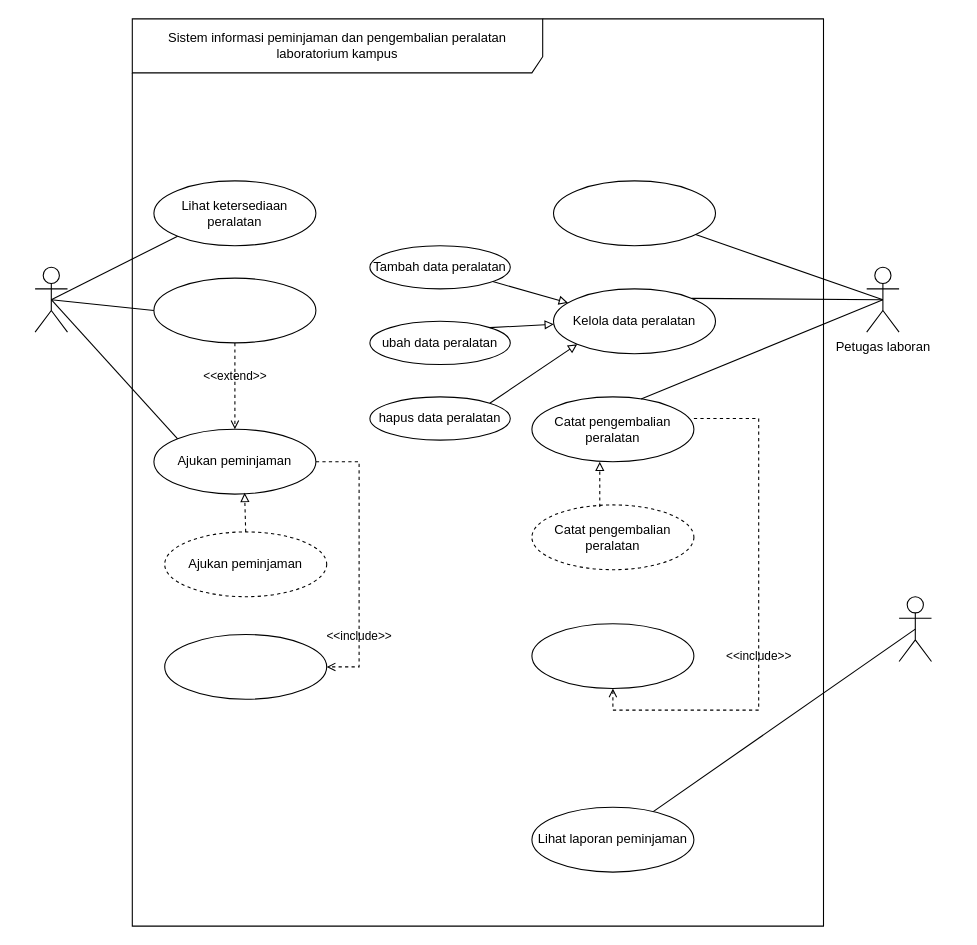
Some shapes in this 977 by 945 pixel diagram are drawn without their labels. Each missing label, with the centre of its shape:
Cetak Bukti Pengajuan: the point at 234,310
Kepala laboran: the point at 915,629
Lihat keputusan peminjaman: the point at 634,213
Mahasiswa: the point at 51,299
Periksa kondisi peralatan: the point at 612,655
Periksan ketersediaan: the point at 245,666
